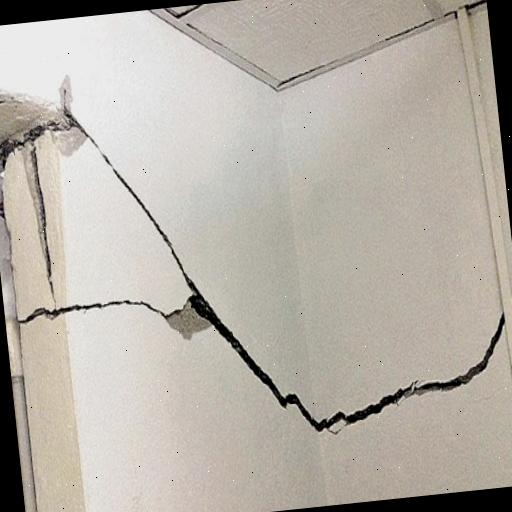spalling: (76, 109, 506, 443), (21, 293, 165, 342), (20, 145, 60, 310)
